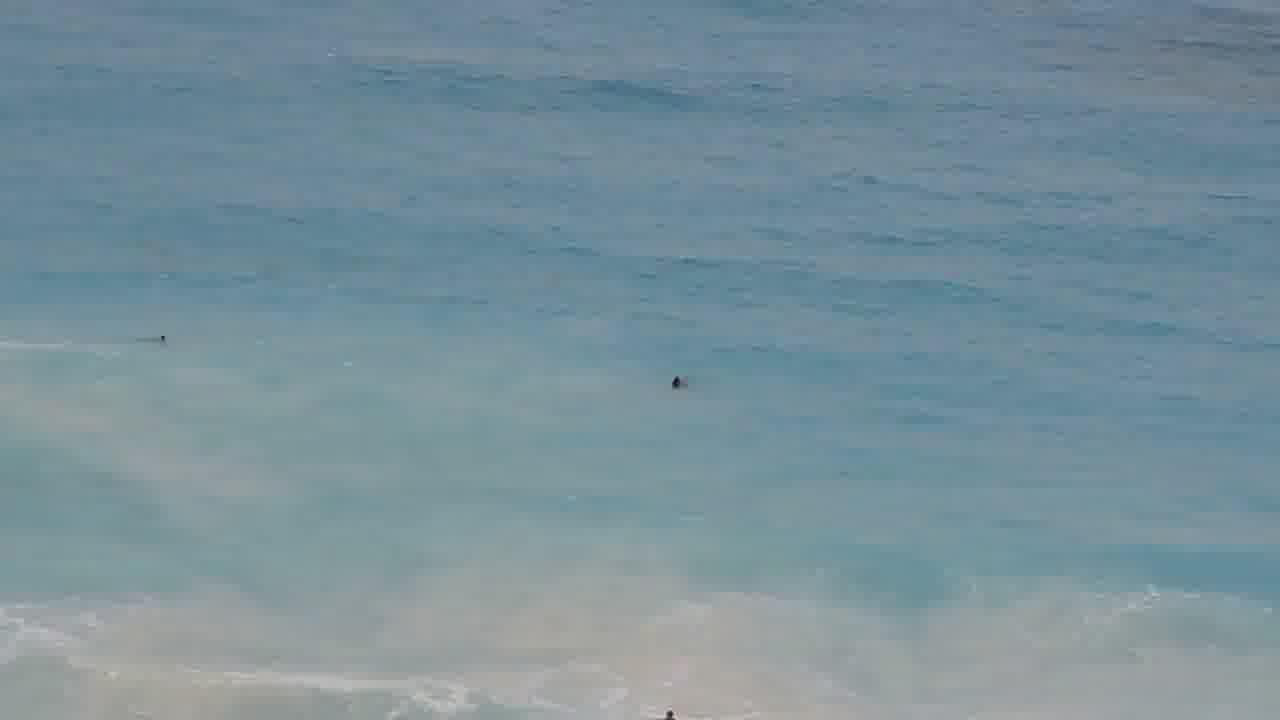human: (655, 365, 706, 406), (138, 319, 180, 352), (649, 699, 703, 720)
